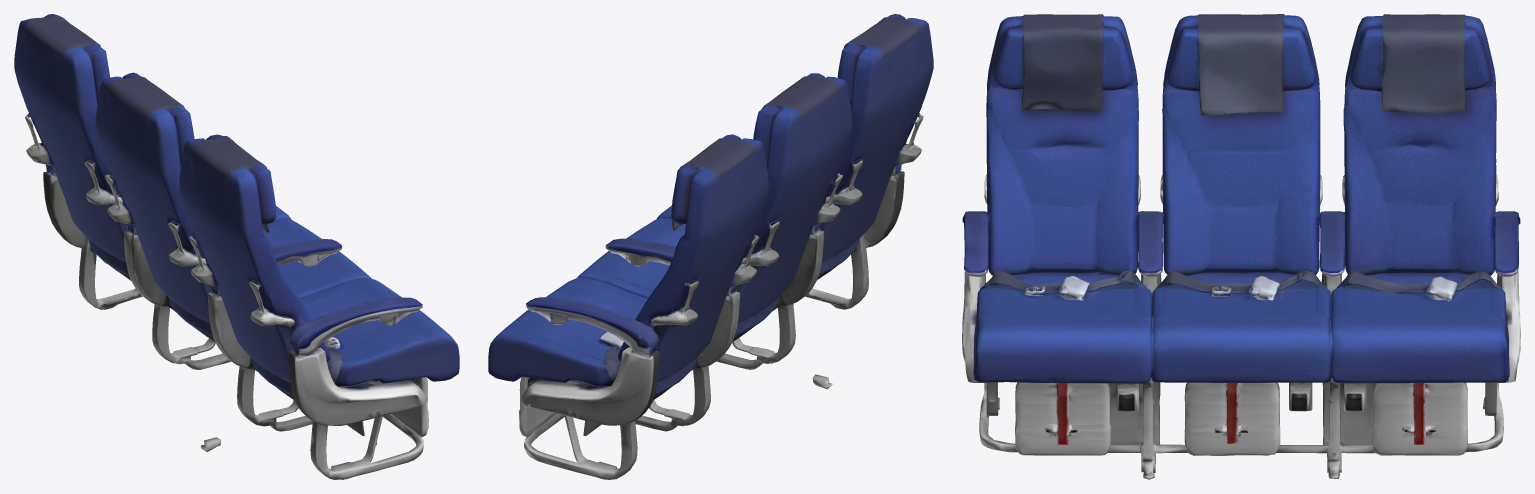
The model's file is seat.glb.
3 renders of one model, left to right at view 1: azimuth 30°, elevation 25°; view 2: azimuth 150°, elevation 25°; view 3: azimuth 270°, elevation 25°, orthographic. The views are drawn at different scales.
Parts seen in each view (by area): view 1: tripo_node_956c47b9-05a2-4c04-bf5c-148f9682e8b5; view 2: tripo_node_956c47b9-05a2-4c04-bf5c-148f9682e8b5; view 3: tripo_node_956c47b9-05a2-4c04-bf5c-148f9682e8b5.
Part boxes in pixels (left/top/right/bottom): tripo_node_956c47b9-05a2-4c04-bf5c-148f9682e8b5: left=14, top=14, right=459, bottom=479; tripo_node_956c47b9-05a2-4c04-bf5c-148f9682e8b5: left=488, top=14, right=933, bottom=479; tripo_node_956c47b9-05a2-4c04-bf5c-148f9682e8b5: left=962, top=14, right=1520, bottom=479.
Bounding box in the file's own units: 0.4941 × 0.7104 × 1.
Materials: 1 (1 with a texture image).
